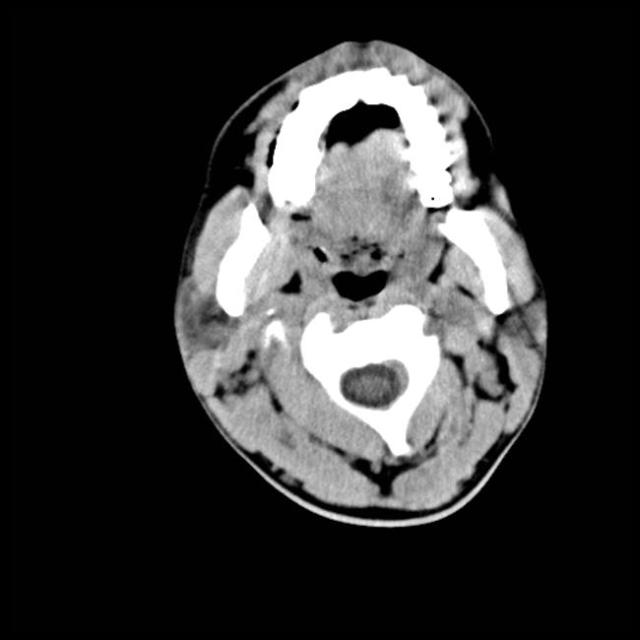lesion: (170, 38, 552, 528)
